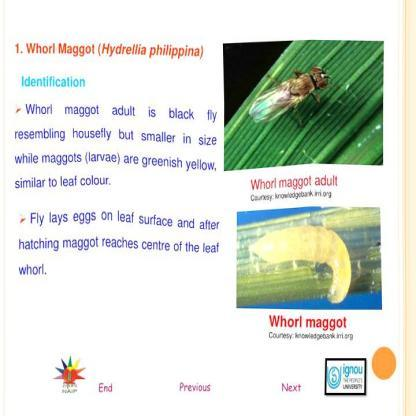whorl-maggot: (242, 217, 358, 307)
